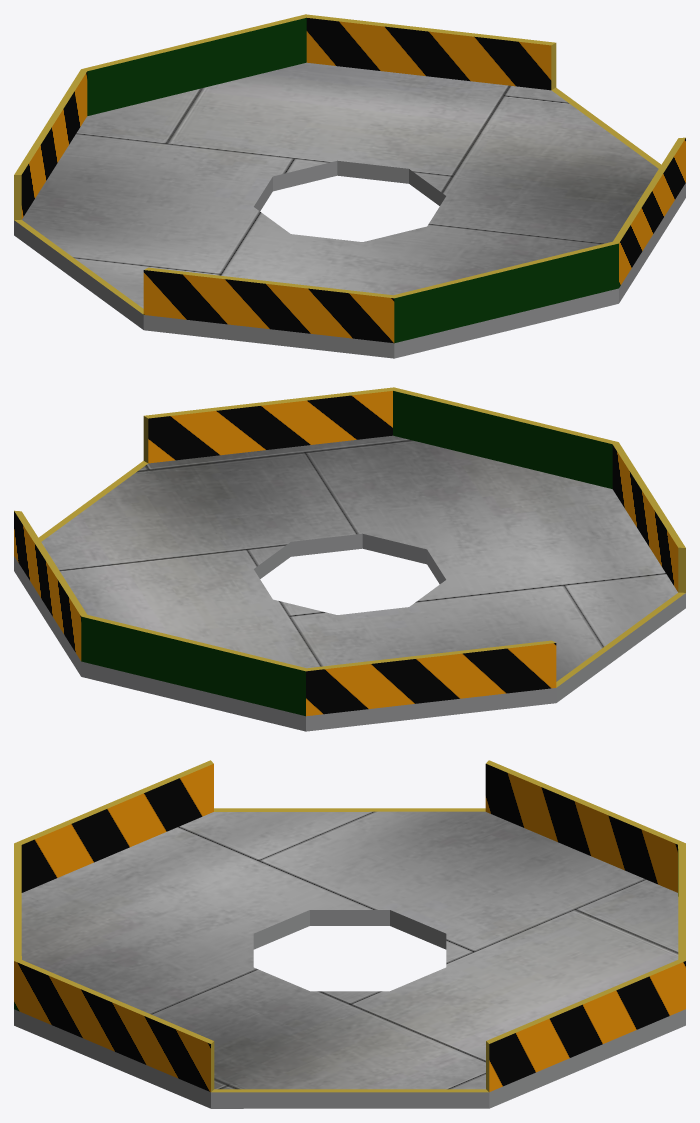
The model's file is Road2.fbx.
3 views of the same model, one above another, from view 1: azimuth 30°, elevation 25°; view 2: azimuth 150°, elevation 25°; view 3: azimuth 270°, elevation 25° (orthographic). The views are drawn at different scales.
Visible parts, largest first — view 1: 円; view 2: 円; view 3: 円.
Boxes of the visible parts, <box> form: 円: <box>14,14,685,358</box>; 円: <box>14,387,685,731</box>; 円: <box>14,760,685,1108</box>.
Size of the model in its own units: 959 by 102 by 959.
